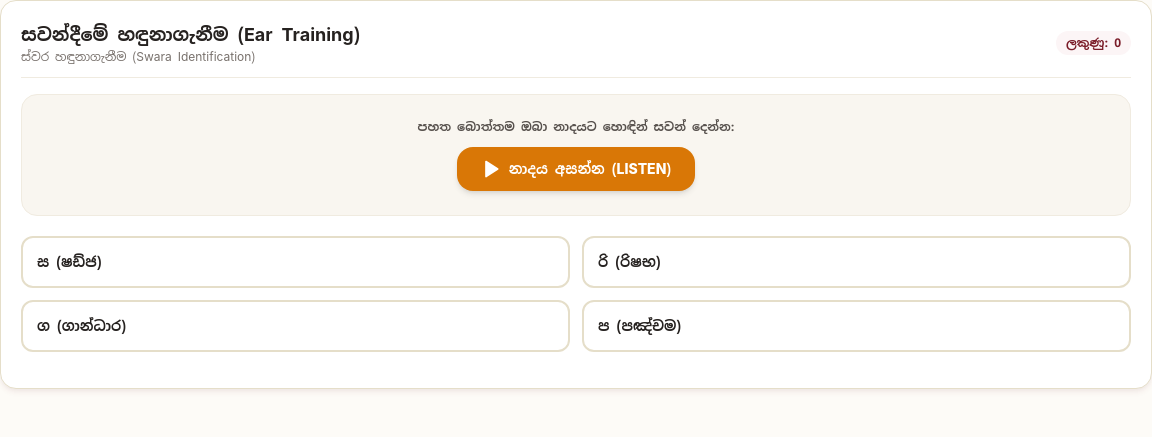
Swara playback rejection consumers › contains rejected EarTraining tone promises
Click the button "නාදය අසන්න (LISTEN)" at x=576, y=169, box [457, 147, 695, 191]
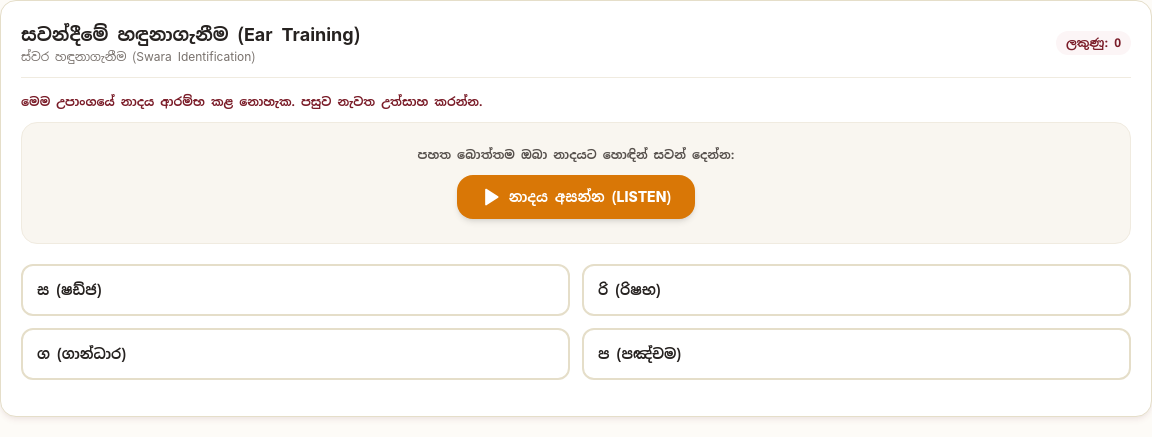
Expected: the message shows "නාදය ආරම්භ කළ නොහැක", [21, 94, 482, 110]
